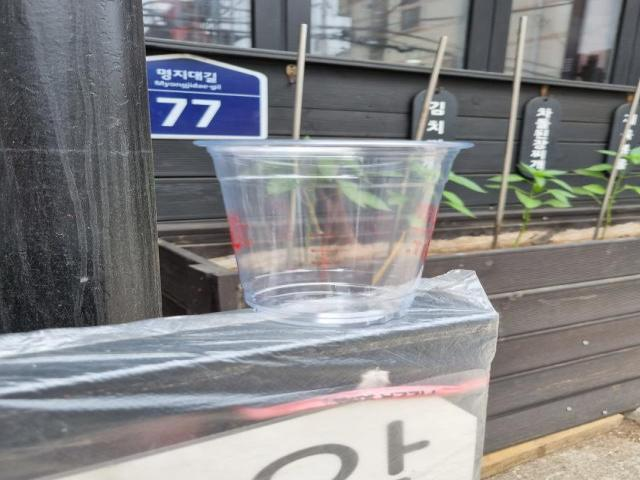cup: (182, 131, 480, 333)
